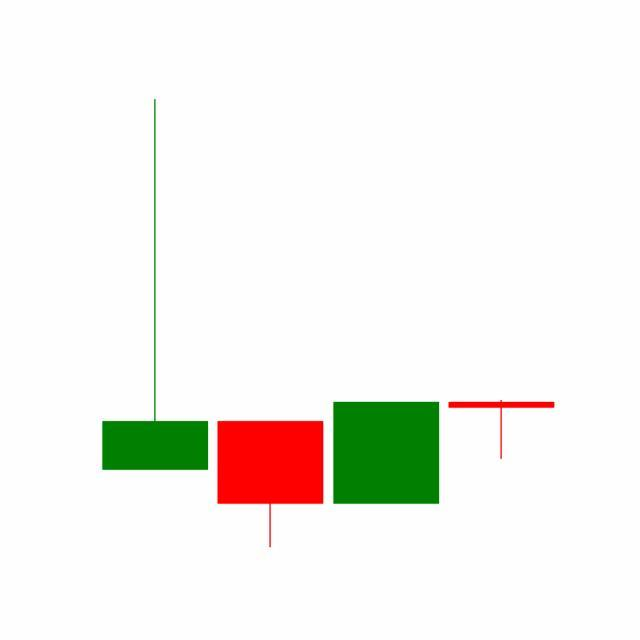Hammer: (444, 400, 560, 461)
